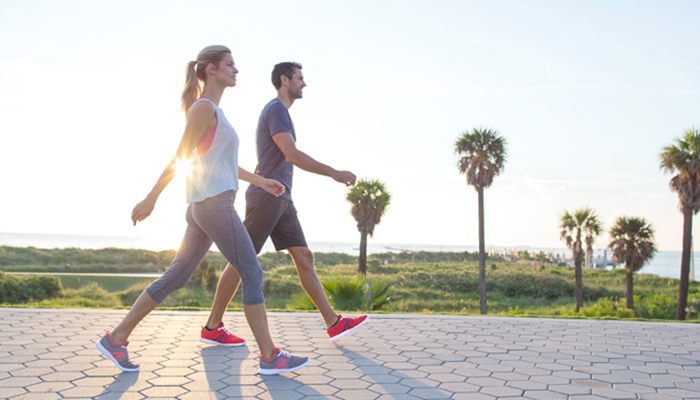feet: (88, 322, 309, 378), (197, 309, 370, 348)
